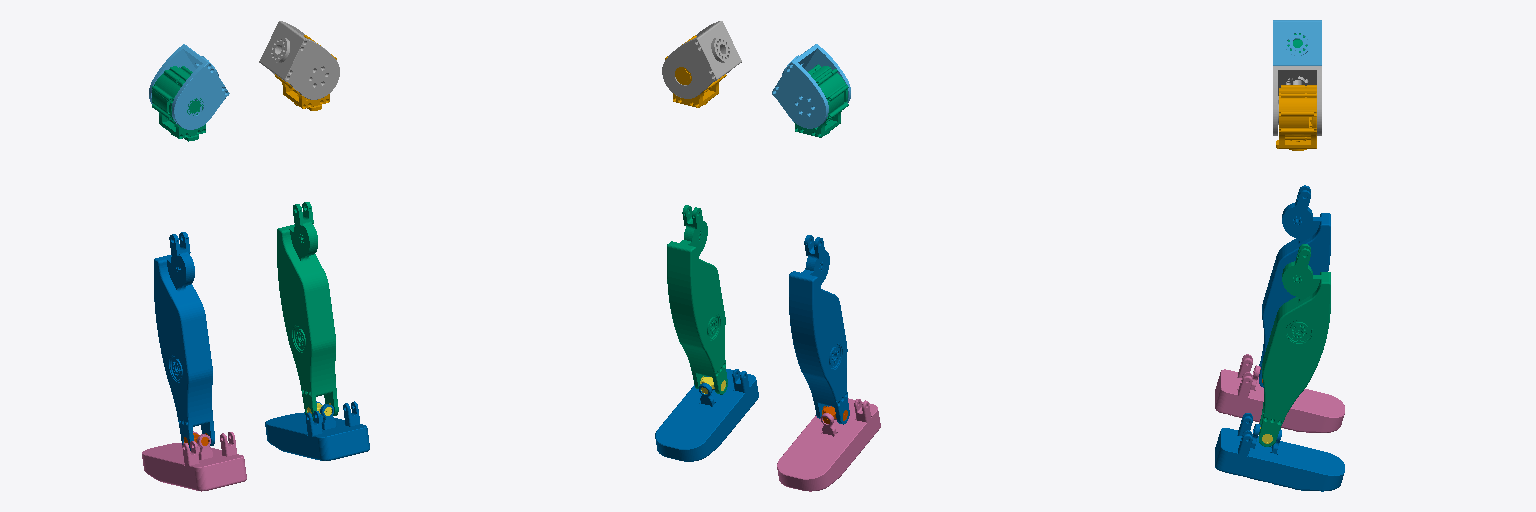
The robot description file, URDF, robot "bello_leg_urdf":
<?xml version='1.0' encoding='utf-8'?>
<robot name="bello_leg_urdf">
    <link name="pelvis_link">
        <inertial>
            <origin xyz="-4.769135113003478e-06 0.00027515914651479663 -0.01325790002780475" rpy="0.0 0.0 0.0" />
            <mass value="2.723704035918256" />
            <inertia ixx="0.010026421380916502" iyy="0.010935305340583483" izz="0.011564669739949598" ixy="-6.027834461682824e-06" iyz="2.0318481319811533e-05" ixz="-4.457329722382486e-06" />
        </inertial>
        <visual name="pelvis_link_visual">
            <origin xyz="0.0 0.0 0.0" rpy="0.0 0.0 0.0" />
            <geometry>
                <mesh filename="../meshes/pelvis_link.stl" scale="0.001 0.001 0.001" />
            </geometry>
        </visual>
        <collision name="pelvis_link_collision">
            <origin xyz="0.0 0.0 0.0" rpy="0.0 0.0 0.0" />
            <geometry>
                <mesh filename="../meshes/pelvis_link.stl" scale="0.001 0.001 0.001" />
            </geometry>
        </collision>
    </link>
    <link name="left_hip_pitch_link">
        <inertial>
            <origin xyz="-0.00657135390899942 0.002641057736631917 0.04992883740062198" rpy="0.0 -0.0 0.0" />
            <mass value="0.753203052633067" />
            <inertia ixx="0.0020007726021129403" iyy="0.0014341901780462476" izz="0.0016203380328700069" ixy="1.4256026804476123e-05" iyz="-5.434013401183831e-05" ixz="0.0001563970226413742" />
        </inertial>
        <visual name="left_hip_pitch_link_visual">
            <origin xyz="0.006254237340263292 -1.5285649967993768e-16 -0.089298903164037" rpy="-3.14159265358979 1.0471975511963785 3.141592653589793" />
            <geometry>
                <mesh filename="../meshes/left_hip_pitch_link.stl" scale="0.001 0.001 0.001" />
            </geometry>
        </visual>
        <collision name="left_hip_pitch_link_collision">
            <origin xyz="0.006254237340263292 -1.5285649967993768e-16 -0.089298903164037" rpy="-3.14159265358979 1.0471975511963785 3.141592653589793" />
            <geometry>
                <mesh filename="../meshes/left_hip_pitch_link.stl" scale="0.001 0.001 0.001" />
            </geometry>
        </collision>
    </link>
    <link name="left_hip_roll_link">
        <inertial>
            <origin xyz="-1.5722511061380118e-05 -0.013104251320650474 0.03115042900840708" rpy="0.0 -0.0 0.0" />
            <mass value="0.8202498913873307" />
            <inertia ixx="0.0015028215142896695" iyy="0.0009950712952355688" izz="0.001457224854276358" ixy="2.3954737037208684e-07" iyz="-1.9240861093533187e-05" ixz="2.4476549819829694e-07" />
        </inertial>
        <visual name="left_hip_roll_link_visual">
            <origin xyz="0.13425798 0.10205615999999999 0.0275" rpy="-1.5707963267948966 -0.0 0.0" />
            <geometry>
                <mesh filename="../meshes/left_hip_roll_link.stl" scale="0.001 0.001 0.001" />
            </geometry>
        </visual>
        <collision name="left_hip_roll_link_collision">
            <origin xyz="0.13425798 0.10205615999999999 0.0275" rpy="-1.5707963267948966 -0.0 0.0" />
            <geometry>
                <mesh filename="../meshes/left_hip_roll_link.stl" scale="0.001 0.001 0.001" />
            </geometry>
        </collision>
    </link>
    <link name="left_hip_yaw_link">
        <inertial>
            <origin xyz="5.871543720139982e-05 0.004459696545364801 0.12737708814016976" rpy="0.0 -0.0 0.0" />
            <mass value="3.4206252199997365" />
            <inertia ixx="0.023996930171604695" iyy="0.02344628874256177" izz="0.007702978327193161" ixy="6.802938700108806e-07" iyz="-0.0010389684140503443" ixz="-3.437905341892464e-05" />
        </inertial>
        <visual name="left_hip_yaw_link_visual">
            <origin xyz="-0.13430303076388805 0.0 -0.1739968736698928" rpy="3.141592653589793 -0.0004414888388558546 3.141592653589793" />
            <geometry>
                <mesh filename="../meshes/left_hip_yaw_link.stl" scale="0.001 0.001 0.001" />
            </geometry>
        </visual>
        <collision name="left_hip_yaw_link_collision">
            <origin xyz="-0.13430303076388805 0.0 -0.1739968736698928" rpy="3.141592653589793 -0.0004414888388558546 3.141592653589793" />
            <geometry>
                <mesh filename="../meshes/left_hip_yaw_link.stl" scale="0.001 0.001 0.001" />
            </geometry>
        </collision>
    </link>
    <link name="left_knee_link">
        <inertial>
            <origin xyz="-0.1427120578827386 -0.005502562556355564 0.009504925150395138" rpy="0.0 -0.0 0.0" />
            <mass value="1.6166354008689852" />
            <inertia ixx="0.0025172635257872484" iyy="0.01598734308805383" izz="0.017815484479616856" ixy="-0.0036049167782221557" iyz="6.13444365418626e-06" ixz="1.9083542734207985e-05" />
        </inertial>
        <visual name="left_knee_link_visual">
            <origin xyz="0.45493823519251964 0.0 -0.1248030323095103" rpy="3.141592653589793 1.5703548379560408 3.141592653589793" />
            <geometry>
                <mesh filename="../meshes/left_knee_link.stl" scale="0.001 0.001 0.001" />
            </geometry>
        </visual>
        <collision name="left_knee_link_collision">
            <origin xyz="0.45493823519251964 0.0 -0.1248030323095103" rpy="3.141592653589793 1.5703548379560408 3.141592653589793" />
            <geometry>
                <mesh filename="../meshes/left_knee_link.stl" scale="0.001 0.001 0.001" />
            </geometry>
        </collision>
    </link>
    <link name="left_ankle_pitch_link">
        <inertial>
            <origin xyz="3.0223246483274125e-09 -3.4158437589582035e-09 -0.019500003102149995" rpy="0.0 -0.0 0.0" />
            <mass value="0.05433680325729814" />
            <inertia ixx="1.8282996152805394e-05" iyy="1.1746618793911923e-05" izz="9.890098287274976e-06" ixy="-1.8868278556183332e-06" iyz="-4.205718898137821e-15" ixz="5.065553959755874e-14" />
        </inertial>
        <visual name="left_ankle_pitch_link_visual">
            <origin xyz="0.789836662721809 -0.05867748 0.11480302524804908" rpy="0.0 -1.5703548379560408 3.141592653589793" />
            <geometry>
                <mesh filename="../meshes/left_ankle_pitch_link.stl" scale="0.001 0.001 0.001" />
            </geometry>
        </visual>
        <collision name="left_ankle_pitch_link_collision">
            <origin xyz="0.789836662721809 -0.05867748 0.11480302524804908" rpy="0.0 -1.5703548379560408 3.141592653589793" />
            <geometry>
                <mesh filename="../meshes/left_ankle_pitch_link.stl" scale="0.001 0.001 0.001" />
            </geometry>
        </collision>
    </link>
    <link name="left_ankle_roll_link">
        <inertial>
            <origin xyz="-2.320767584764738e-05 -0.054402830429465185 0.005753605964633764" rpy="-2.7755575615628914e-17 -1.6940658945086007e-21 3.3881317890172014e-21" />
            <mass value="1.5363094747542325" />
            <inertia ixx="0.007485380220308385" iyy="0.008551786392170265" izz="0.0017478681246109198" ixy="4.7054747136580836e-07" iyz="-2.1941645174561493e-05" ixz="-1.2671864180893897e-08" />
        </inertial>
        <visual name="left_ankle_roll_link_visual">
            <origin xyz="-0.13397118874641967 0.7781687253169265 -0.17274116763904332" rpy="1.832588612190118 -0.00011426269817962677 3.141592653589793" />
            <geometry>
                <mesh filename="../meshes/left_ankle_roll_link.stl" scale="0.001 0.001 0.001" />
            </geometry>
        </visual>
        <collision name="left_ankle_roll_link_collision_box_1">
            <origin xyz="-0.00012930994 -0.05575859058 -0.025029507" rpy="1.57078922439 -0.000114262698 3.14159265359" />
            <geometry>
                <box size="0.106 0.17007 0.05" />
            </geometry>
        </collision>
        <collision name="left_ankle_roll_link_collision_box_2">
            <origin xyz="-0.000113270073 -0.04342194783 0.1153475943" rpy="1.78022873463 -0.000114262698 3.14159265359" />
            <geometry>
                <box size="0.026 0.04 0.05" />
            </geometry>
        </collision>
        <collision name="left_ankle_roll_link_collision_box_3">
            <origin xyz="-0.00011785 -0.05194043 0.07527129" rpy="1.78022873463 -0.000114262698 3.14159265359" />
            <geometry>
                <box size="0.106 0.04195 0.05" />
            </geometry>
        </collision>
        <collision name="left_ankle_roll_link_collision_cylinder_1">
            <origin xyz="-0.01311550613 -0.04758168901 0.09577886879" rpy="1.78022873463 -0.000114262698 3.14159265359" />
            <geometry>
                <cylinder radius="0.04" length="0.05" />
            </geometry>
        </collision>
        <collision name="left_ankle_roll_link_collision_cylinder_2">
            <origin xyz="0.0128844937 -0.04758168901 0.09577589796" rpy="1.78022873463 -0.000114262698 3.14159265359" />
            <geometry>
                <cylinder radius="0.04" length="0.05" />
            </geometry>
        </collision>
    </link>
    <link name="right_hip_pitch_link">
        <inertial>
            <origin xyz="0.006344501522531135 -0.0038290907198123996 0.04917331702018659" rpy="0.0 -0.0 0.0" />
            <mass value="0.7334623065620686" />
            <inertia ixx="0.0019422438646091028" iyy="0.0014108894036466407" izz="0.0015763433118441911" ixy="2.179822880190694e-05" iyz="7.945905566455121e-05" ixz="-0.00015160061754852891" />
        </inertial>
        <visual name="right_hip_pitch_link_visual">
            <origin xyz="-0.006254237340286433 -5.700018013619654e-16 -0.08879890316400728" rpy="3.141592653589793 -1.0471975511963785 3.141592653589793" />
            <geometry>
                <mesh filename="../meshes/right_hip_pitch_link.stl" scale="0.001 0.001 0.001" />
            </geometry>
        </visual>
        <collision name="right_hip_pitch_link_collision">
            <origin xyz="-0.006254237340286433 -5.700018013619654e-16 -0.08879890316400728" rpy="3.141592653589793 -1.0471975511963785 3.141592653589793" />
            <geometry>
                <mesh filename="../meshes/right_hip_pitch_link.stl" scale="0.001 0.001 0.001" />
            </geometry>
        </collision>
    </link>
    <link name="right_hip_roll_link">
        <inertial>
            <origin xyz="2.1533255483738856e-05 0.01310424109908613 0.030454305431686955" rpy="0.0 -0.0 0.0" />
            <mass value="0.8202475067300533" />
            <inertia ixx="0.0015065898389591634" iyy="0.0009988412938415018" izz="0.0014572220709233655" ixy="1.5832540370755432e-08" iyz="5.086964066915091e-05" ixz="-2.487627699806431e-07" />
        </inertial>
        <visual name="right_hip_roll_link_visual">
            <origin xyz="-0.13382496731650065 -0.1018061599881725 0.027500000000046182" rpy="1.5707963267948966 -0.0 -5.551115123125783e-17" />
            <geometry>
                <mesh filename="../meshes/right_hip_roll_link.stl" scale="0.001 0.001 0.001" />
            </geometry>
        </visual>
        <collision name="right_hip_roll_link_collision">
            <origin xyz="-0.13382496731650065 -0.1018061599881725 0.027500000000046182" rpy="1.5707963267948966 -0.0 -5.551115123125783e-17" />
            <geometry>
                <mesh filename="../meshes/right_hip_roll_link.stl" scale="0.001 0.001 0.001" />
            </geometry>
        </collision>
    </link>
    <link name="right_hip_yaw_link">
        <inertial>
            <origin xyz="-5.8659169620423056e-05 -0.004459847208903898 0.12737704926354249" rpy="0.0 -0.0 0.0" />
            <mass value="3.4206454716639594" />
            <inertia ixx="0.02399652269397401" iyy="0.023446166739378327" izz="0.0077026817886487395" ixy="6.8112778374603e-07" iyz="0.0010390520090047322" ixz="3.437912722470404e-05" />
        </inertial>
        <visual name="right_hip_yaw_link_visual">
            <origin xyz="-0.13382496731765536 3.517818966973252e-11 -0.17380615998817248" rpy="3.141592653589793 -0.0 0.0" />
            <geometry>
                <mesh filename="../meshes/right_hip_yaw_link.stl" scale="0.001 0.001 0.001" />
            </geometry>
        </visual>
        <collision name="right_hip_yaw_link_collision">
            <origin xyz="-0.13382496731765536 3.517818966973252e-11 -0.17380615998817248" rpy="3.141592653589793 -0.0 0.0" />
            <geometry>
                <mesh filename="../meshes/right_hip_yaw_link.stl" scale="0.001 0.001 0.001" />
            </geometry>
        </collision>
    </link>
    <link name="right_knee_link">
        <inertial>
            <origin xyz="-0.1427120564092134 -0.005502562160326177 0.00950493386845535" rpy="0.0 -0.0 0.0" />
            <mass value="1.616635367708446" />
            <inertia ixx="0.0025172662959268358" iyy="0.015987343898196116" izz="0.01781548806622013" ixy="-0.003604916494808829" iyz="6.1343940450262965e-06" ixz="1.908354863000561e-05" />
        </inertial>
        <visual name="right_knee_link_visual">
            <origin xyz="0.45474751998817253 -3.51809074956968e-11 0.1433249773176553" rpy="-0.0 1.5707963267948966 0" />
            <geometry>
                <mesh filename="../meshes/right_knee_link.stl" scale="0.001 0.001 0.001" />
            </geometry>
        </visual>
        <collision name="right_knee_link_collision">
            <origin xyz="0.45474751998817253 -3.51809074956968e-11 0.1433249773176553" rpy="-0.0 1.5707963267948966 0" />
            <geometry>
                <mesh filename="../meshes/right_knee_link.stl" scale="0.001 0.001 0.001" />
            </geometry>
        </collision>
    </link>
    <link name="right_ankle_pitch_link">
        <inertial>
            <origin xyz="-3.0572876141832238e-09 -3.380844715294984e-09 -0.01950000490933272" rpy="0.0 -0.0 0.0" />
            <mass value="0.05433680325730459" />
            <inertia ixx="1.8282996153098268e-05" iyy="1.1746618793585795e-05" izz="9.890098287133886e-06" ixy="-1.886827855773071e-06" iyz="3.3536541599321623e-15" ixz="-5.090719512601538e-14" />
        </inertial>
        <visual name="right_ankle_pitch_link_visual">
            <origin xyz="0.7896459399881726 -0.05867747996481914 -0.15332497731765535" rpy="-3.141592653589793 -1.5707963267948966 0" />
            <geometry>
                <mesh filename="../meshes/right_ankle_pitch_link.stl" scale="0.001 0.001 0.001" />
            </geometry>
        </visual>
        <collision name="right_ankle_pitch_link_collision">
            <origin xyz="0.7896459399881726 -0.05867747996481914 -0.15332497731765535" rpy="-3.141592653589793 -1.5707963267948966 0" />
            <geometry>
                <mesh filename="../meshes/right_ankle_pitch_link.stl" scale="0.001 0.001 0.001" />
            </geometry>
        </collision>
    </link>
    <link name="right_ankle_roll_link">
        <inertial>
            <origin xyz="-1.7078902434519705e-08 0.05440283316267554 0.005753605388978045" rpy="0.0 -0.0 0.0" />
            <mass value="1.5363094737280536" />
            <inertia ixx="0.007485379958445115" iyy="0.008551786570303145" izz="0.0017478680597458624" ixy="-1.5704794139357938e-08" iyz="2.1941661474764868e-05" ixz="-3.4328848946443237e-09" />
        </inertial>
        <visual name="right_ankle_roll_link_visual">
            <origin xyz="-0.13382497731765536 -0.777927306787565 -0.17269180847454368" rpy="1.8325886365525432 -0.0 0.0" />
            <geometry>
                <mesh filename="../meshes/right_ankle_roll_link.stl" scale="0.001 0.001 0.001" />
            </geometry>
        </visual>
        <collision name="right_ankle_roll_link_collision_box_1">
            <origin xyz="0.0 0.05600000551 -0.02496483535" rpy="1.57078924875 0.0 0.0" />
            <geometry>
                <box size="0.106 0.17007 0.05" />
            </geometry>
        </collision>
        <collision name="right_ankle_roll_link_collision_box_2">
            <origin xyz="0.0 0.04366335934 0.11541226661" rpy="1.78022875899 0.0 0.0" />
            <geometry>
                <box size="0.026 0.04 0.05" />
            </geometry>
        </collision>
        <collision name="right_ankle_roll_link_collision_box_3">
            <origin xyz="0.0 0.0521818413 0.0753359601" rpy="1.78022875899 0.0 0.0" />
            <geometry>
                <box size="0.106 0.04195 0.05" />
            </geometry>
        </collision>
        <collision name="right_ankle_roll_link_collision_cylinder_1">
            <origin xyz="-0.01299997732 0.047823101 0.09584205562" rpy="1.78022875899 0.0 0.0" />
            <geometry>
                <cylinder radius="0.04" length="0.05" />
            </geometry>
        </collision>
        <collision name="right_ankle_roll_link_collision_cylinder_2">
            <origin xyz="0.01300002268 0.047823101 0.09584205562" rpy="1.78022875899 0.0 0.0" />
            <geometry>
                <cylinder radius="0.04" length="0.05" />
            </geometry>
        </collision>
    </link>
    <joint name="left_hip_pitch_joint" type="revolute">
        <origin xyz="-0.074208 0.0 -0.050065780000000004" rpy="-3.1415926535897873 -1.0471975511963785 3.141592653589788" />
        <parent link="pelvis_link" />
        <child link="left_hip_pitch_link" />
        <axis xyz="-2.0189199995135354e-07 1.526556658858982e-15 0.9999996503124187" />
        <limit lower="-1.5708" upper="1.5708" effort="120" velocity="30" />
    </joint>
    <joint name="left_hip_roll_joint" type="revolute">
        <origin xyz="-0.014999999832389213 0.02750000000000016 0.07799999817675073" rpy="-1.5707963267948937 1.0471975511963785 3.141592653589793" />
        <parent link="left_hip_pitch_link" />
        <child link="left_hip_roll_link" />
        <axis xyz="0.0 0.0 1.0" />
        <limit lower="-1.5708" upper="1.5708" effort="60" velocity="30" />
    </joint>
    <joint name="left_knee_joint" type="revolute">
        <origin xyz="-0.009499998454377732 0.0 0.28094136152262683" rpy="-0.0 1.5707963267948966 0" />
        <parent link="left_hip_yaw_link" />
        <child link="left_knee_link" />
        <axis xyz="4.888674920830362e-07 0.0 1.0000000972403758" />
        <limit lower="0.0" upper="2.0944" effort="120" velocity="30" />
    </joint>
    <joint name="left_ankle_pitch_joint" type="revolute">
        <origin xyz="-0.3348984275292894 -0.05867748 -0.010000007061461194" rpy="3.141592653589793 5.475220971051798e-17 0.0" />
        <parent link="left_knee_link" />
        <child link="left_ankle_pitch_link" />
        <axis xyz="-4.88867492028284e-07 0.0 1.0000000972403758" />
        <limit lower="-0.5236" upper="1.0472" effort="40" velocity="30" />
    </joint>
    <joint name="left_ankle_roll_joint" type="revolute">
        <origin xyz="-0.006470301599170085 -0.024148189999999996 -0.019499998466242924" rpy="1.5707963259789532 1.5703698805128048 -0.2617923105746166" />
        <parent link="left_ankle_pitch_link" />
        <child link="left_ankle_roll_link" />
        <axis xyz="2.627302418433415e-07 2.652383712387074e-07 1.0000002827618903" />
        <limit lower="-0.0873" upper="0.0873" effort="40" velocity="30" />
    </joint>
    <joint name="right_hip_pitch_joint" type="revolute">
        <origin xyz="0.074208 0.0 -0.050065780000000004" rpy="3.141592653589793 1.0471975511963785 3.141592653589793" />
        <parent link="pelvis_link" />
        <child link="right_hip_pitch_link" />
        <axis xyz="2.018920000068647e-07 0.0 0.9999996503124187" />
        <limit lower="-1.5708" upper="1.5708" effort="120" velocity="30" />
    </joint>
    <joint name="right_hip_roll_joint" type="revolute">
        <origin xyz="0.014999999832389284 -0.0275 0.07799999817675074" rpy="1.5707963267948966 -1.0471975511963785 3.141592653589793" />
        <parent link="right_hip_pitch_link" />
        <child link="right_hip_roll_link" />
        <axis xyz="0.0 0.0 1.0" />
        <limit lower="-1.5708" upper="1.5708" effort="60" velocity="30" />
    </joint>
    <joint name="right_hip_yaw_joint" type="revolute">
        <origin xyz="0.0 0.072 0.0275" rpy="-1.5707963267948966 -0.0 0.0" />
        <parent link="right_hip_roll_link" />
        <child link="right_hip_yaw_link" />
        <axis xyz="0.0 0.0 1.0" />
        <limit lower="-1.5708" upper="1.5708" effort="60" velocity="30" />
    </joint>
    <joint name="right_knee_joint" type="revolute">
        <origin xyz="0.009500010000000003 0.0 0.28094136000000003" rpy="-3.141592653589793 1.5707963267948966 0" />
        <parent link="right_hip_yaw_link" />
        <child link="right_knee_link" />
        <axis xyz="-0.0 -0.0 1.0" />
        <limit lower="0.0" upper="2.0944" effort="120" velocity="30" />
    </joint>
    <joint name="right_ankle_pitch_joint" type="revolute">
        <origin xyz="-0.33489842 -0.05867748 -0.01" rpy="3.141592653589793 -0.0 0.0" />
        <parent link="right_knee_link" />
        <child link="right_ankle_pitch_link" />
        <axis xyz="0.0 0.0 1.0" />
        <limit lower="-0.5236" upper="1.0472" effort="40" velocity="30" />
    </joint>
    <joint name="right_ankle_roll_joint" type="revolute">
        <origin xyz="-0.0064703099999999835 -0.024148189999999996 -0.01950000000000001" rpy="1.3090040170365664 -1.5707963267948966 0" />
        <parent link="right_ankle_pitch_link" />
        <child link="right_ankle_roll_link" />
        <axis xyz="0.0 -2.8960148673595754e-07 1.00000027626392" />
        <limit lower="-0.0873" upper="0.0873" effort="40" velocity="30" />
    </joint>
    <joint name="left_hip_yaw_joint" type="revolute">
        <origin xyz="3.178000000000125e-05 -0.07199999000000001 0.0275" rpy="-1.5707963267948966 -0.0 -3.1411511647509376" />
        <parent link="left_hip_roll_link" />
        <child link="left_hip_yaw_link" />
        <axis xyz="4.888674920959383e-07 0.0 1.0000000972403758" />
        <limit lower="-1.5708" upper="1.5708" effort="60" velocity="30" />
    </joint>
</robot>

--- What the picture shows (computed from the rendered views, not written in the file) ---
The picture shows the robot from 3 angles, left to right: view 1: azimuth 30°, elevation 25°; view 2: azimuth 150°, elevation 25°; view 3: azimuth 270°, elevation 25°; orthographic projection.
Model bello_leg_urdf with 13 links and 12 joints (12 revolute), rooted at pelvis_link, posed every joint at zero.
Visible links, largest first — view 1: right_knee_link, left_knee_link, left_ankle_roll_link, right_ankle_roll_link, right_hip_pitch_link, left_hip_pitch_link, left_hip_roll_link, right_hip_roll_link; view 2: right_knee_link, left_knee_link, right_ankle_roll_link, left_ankle_roll_link, right_hip_pitch_link, left_hip_pitch_link, left_hip_roll_link, right_hip_roll_link; view 3: right_knee_link, right_ankle_roll_link, left_ankle_roll_link, left_knee_link, right_hip_roll_link, left_hip_pitch_link, right_hip_pitch_link.
Link boxes in pixels (x1=…): right_knee_link: x1=277, y1=202, x2=338, y2=420; left_knee_link: x1=154, y1=232, x2=214, y2=450; left_ankle_roll_link: x1=142, y1=431, x2=246, y2=491; right_ankle_roll_link: x1=265, y1=401, x2=369, y2=460; right_hip_pitch_link: x1=259, y1=21, x2=339, y2=99; left_hip_pitch_link: x1=149, y1=44, x2=229, y2=129; left_hip_roll_link: x1=152, y1=66, x2=205, y2=141; right_hip_roll_link: x1=275, y1=35, x2=336, y2=110; right_knee_link: x1=667, y1=205, x2=727, y2=394; left_knee_link: x1=789, y1=235, x2=849, y2=424; right_ankle_roll_link: x1=655, y1=369, x2=758, y2=461; left_ankle_roll_link: x1=777, y1=398, x2=880, y2=491; right_hip_pitch_link: x1=662, y1=21, x2=741, y2=98; left_hip_pitch_link: x1=772, y1=44, x2=850, y2=128; left_hip_roll_link: x1=794, y1=64, x2=848, y2=137; right_hip_roll_link: x1=665, y1=35, x2=726, y2=107; right_knee_link: x1=1259, y1=244, x2=1330, y2=446; right_ankle_roll_link: x1=1215, y1=413, x2=1344, y2=491; left_ankle_roll_link: x1=1215, y1=354, x2=1344, y2=432; left_knee_link: x1=1259, y1=185, x2=1330, y2=387; right_hip_roll_link: x1=1276, y1=85, x2=1316, y2=150; left_hip_pitch_link: x1=1273, y1=20, x2=1321, y2=65; right_hip_pitch_link: x1=1273, y1=66, x2=1321, y2=135.
Bounding box of the posed robot: 0.3742 × 0.2525 × 0.878 m (x, y, z).
Meshes: 13 distinct files referenced, 10 mesh visuals loaded (10 binary STL); not drawn: 3 (reference not matched to a file when rendering).
